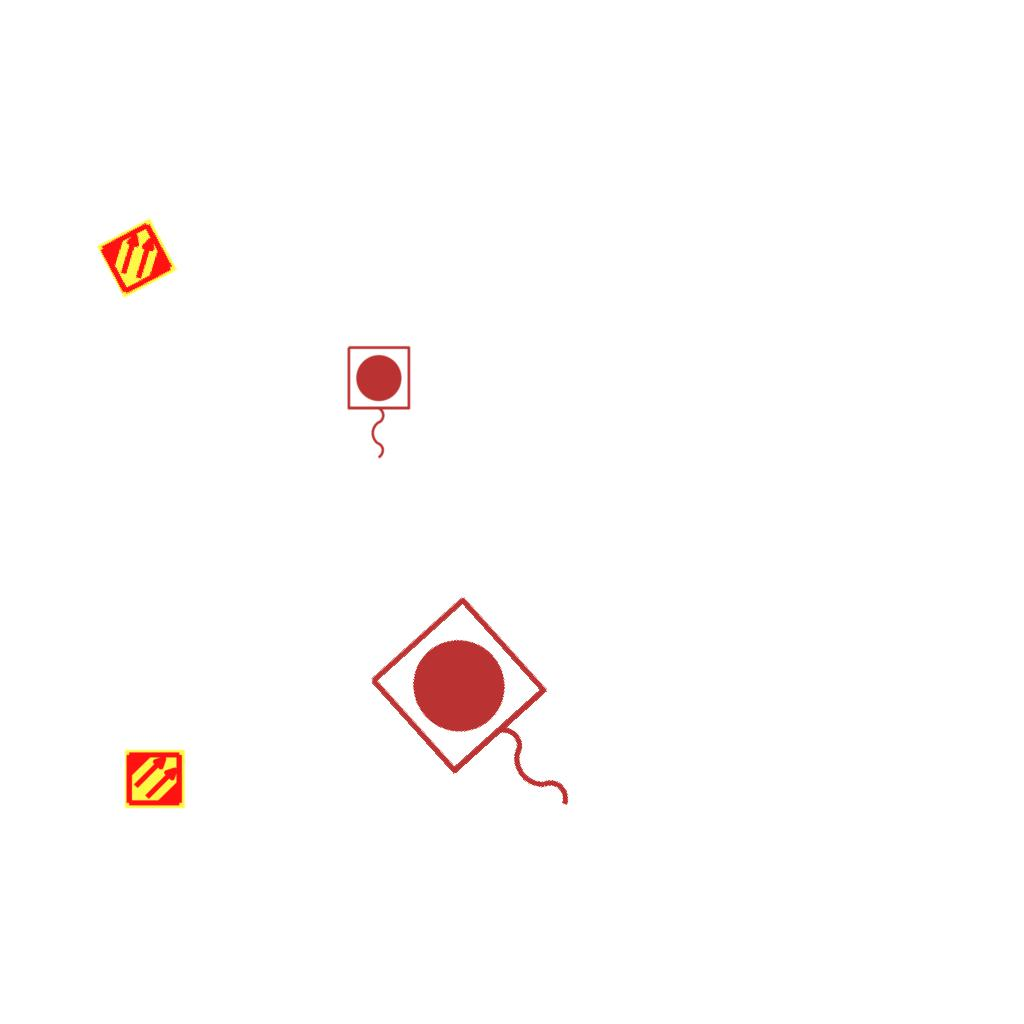ASR_Ansaugrauchmelder: (95, 216, 179, 300), (124, 748, 186, 810)
Zugtaster: (355, 585, 627, 863), (342, 342, 414, 464)
